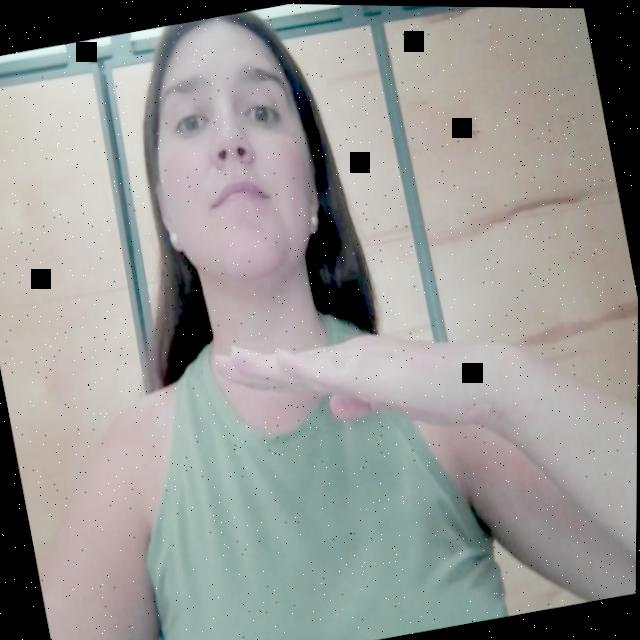Paper: (168, 249, 511, 497)
